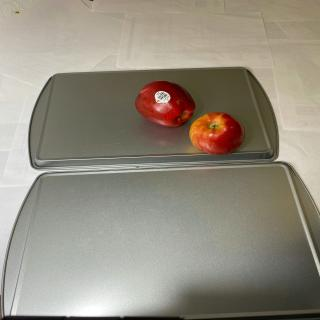Apple: (134, 80, 196, 127), (189, 112, 245, 155)
